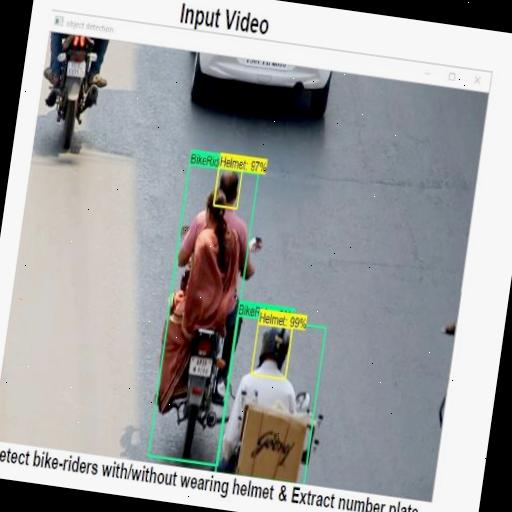helmet: (226, 318, 309, 494)
no helmet: (180, 152, 258, 226)
